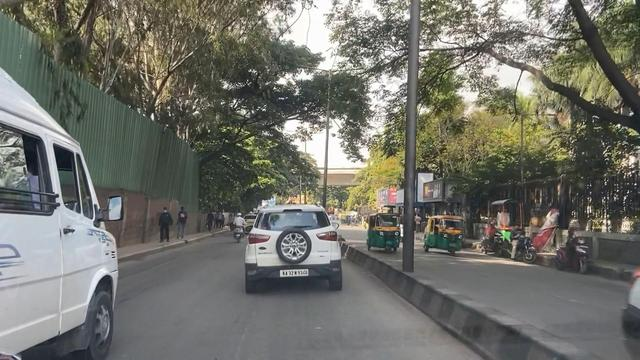HMV: (1, 75, 132, 360)
LMV: (242, 204, 350, 295)
